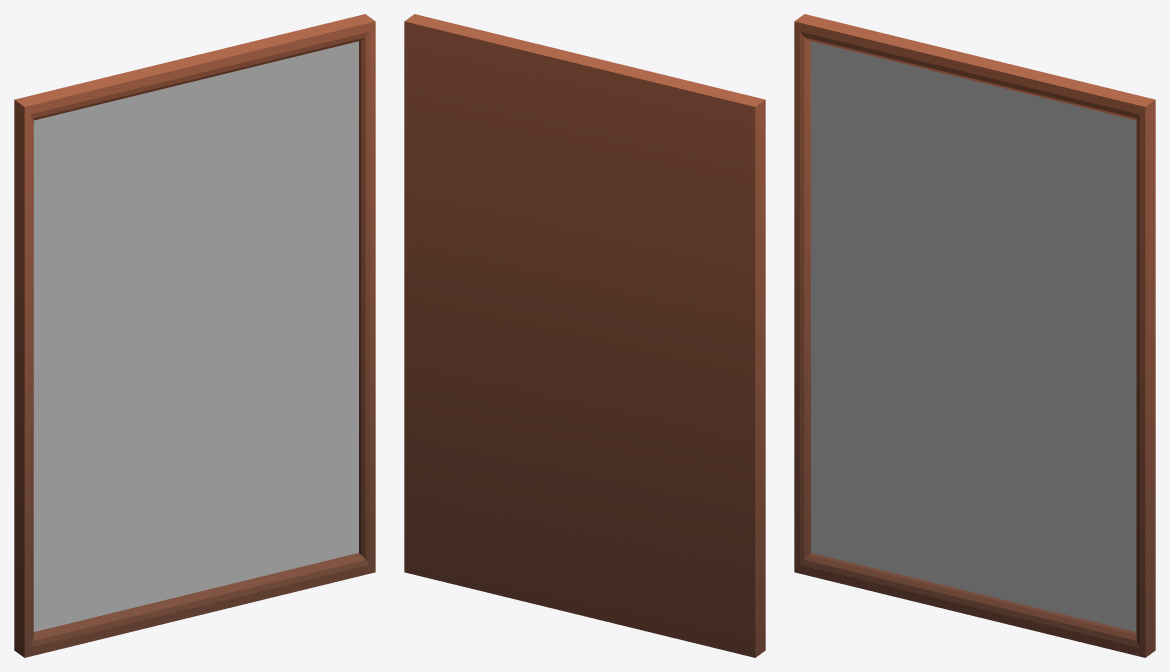
The model's file is Tableau_A.fbx.
The picture shows the model from 3 angles, left to right: view 1: azimuth 30°, elevation 25°; view 2: azimuth 150°, elevation 25°; view 3: azimuth 330°, elevation 25°; orthographic projection.
Visible parts, largest first — view 1: Cube; view 2: Cube; view 3: Cube.
Boxes of the visible parts, x1,y1,x2,y2 form: Cube: (14,14,375,657); Cube: (404,14,765,657); Cube: (794,14,1155,657).
Bounding box in the file's own units: 100 × 150 × 5.
